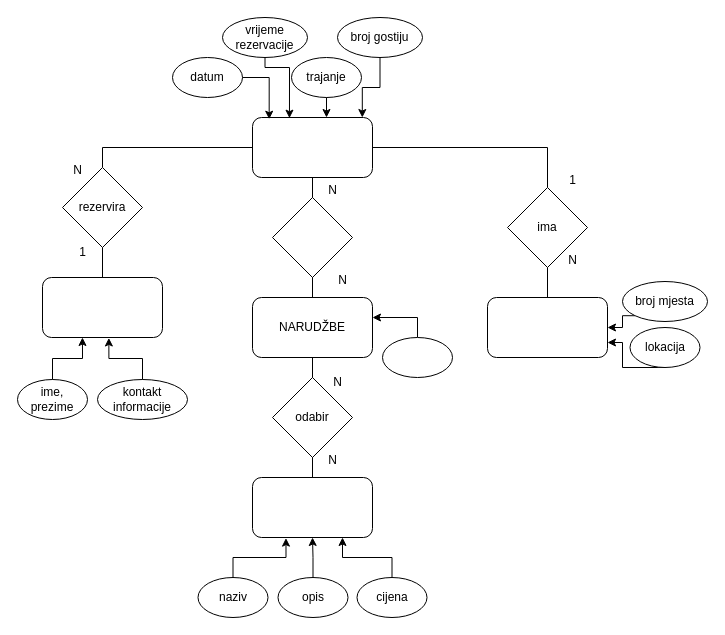
Some shapes in this 725 by 635 pixel diagram are drawn without their labels. Here are the shapes that lost their labels. From the top down, the centre of each, then its label:
At pixel 312 147: "REZERVACIJE".
At pixel 312 237: "naručuje".
At pixel 102 307: "GOSTI".
At pixel 547 327: "STOLOVI".
At pixel 417 357: "količina".
At pixel 312 507: "JELOVNIK".
